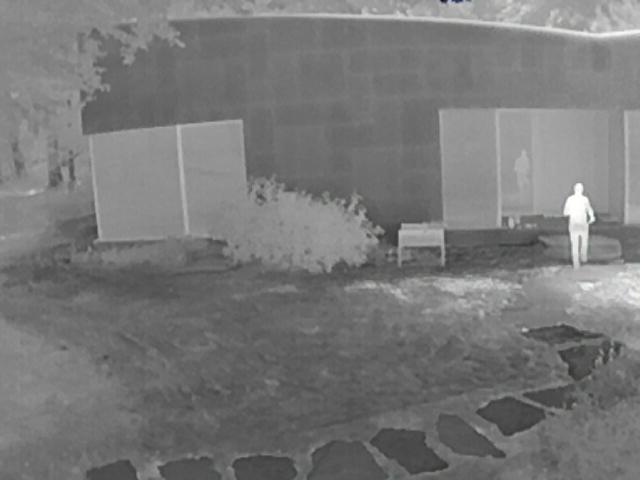person: (564, 183, 595, 269), (513, 146, 530, 196)
